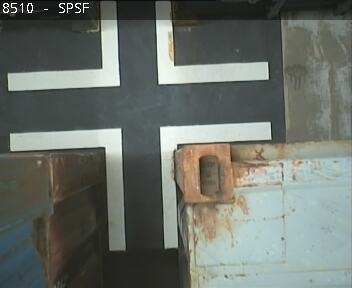groundmarker_1: (9, 120, 272, 248), (7, 1, 268, 90)
